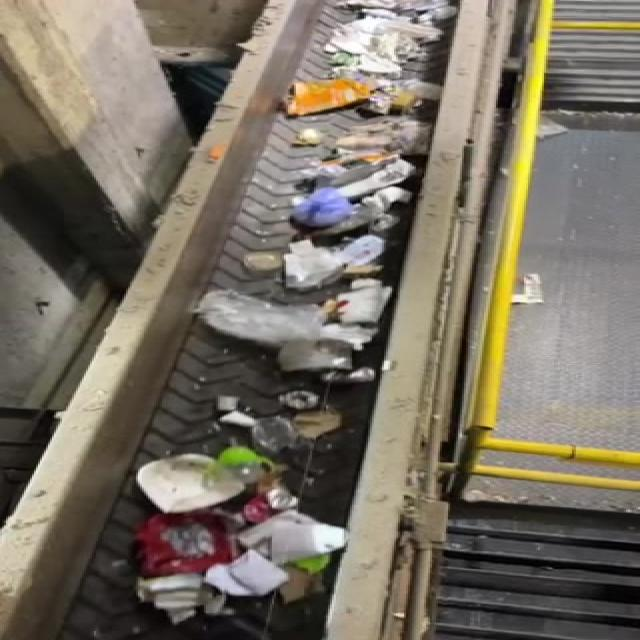pet: (210, 435, 283, 492)
ps: (115, 448, 276, 516)
